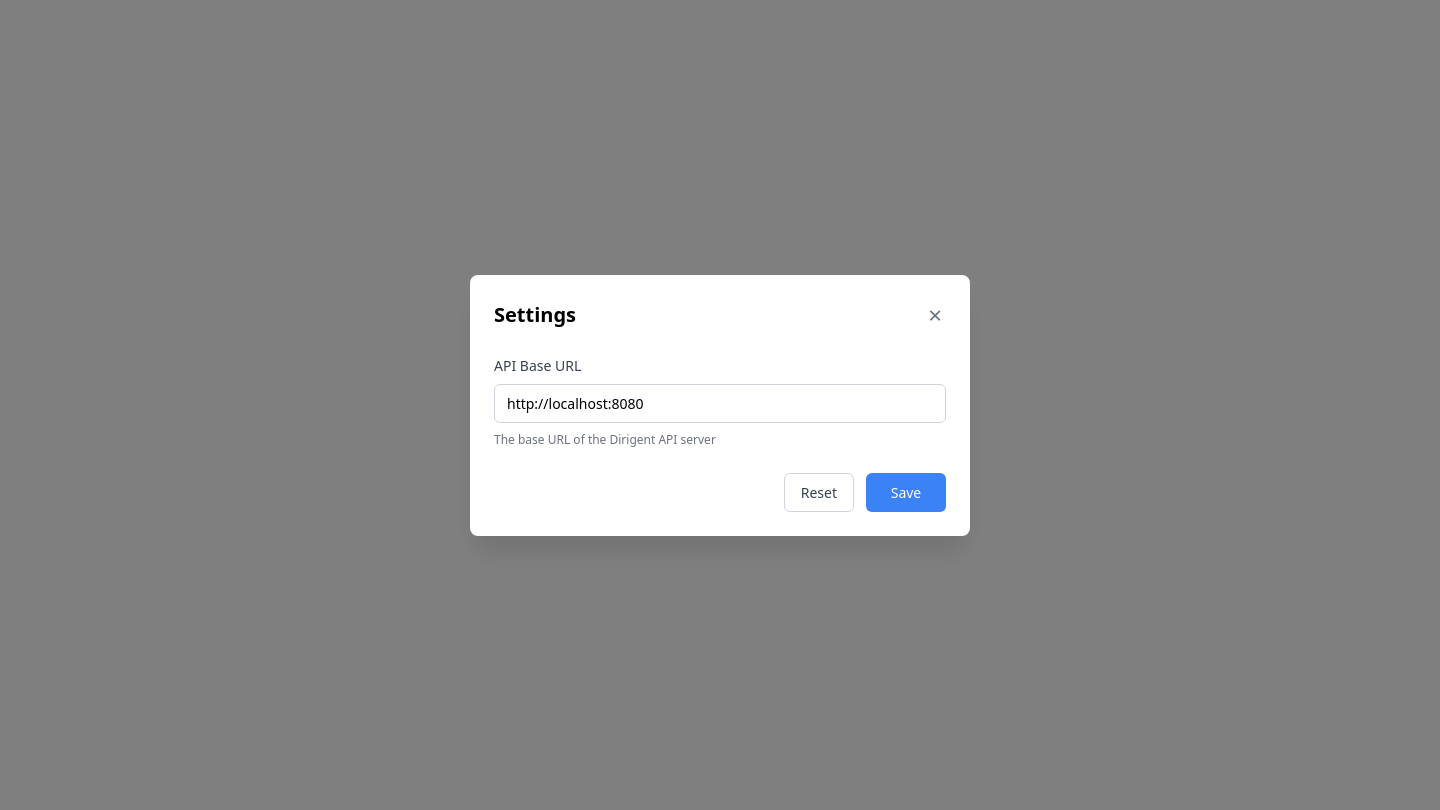
Test case: SettingsPanel › should show saved state after saving
The width and height of the screenshot is (1440, 810).
Click the button "Save".
click(906, 492)  # box [866,472,946,512]
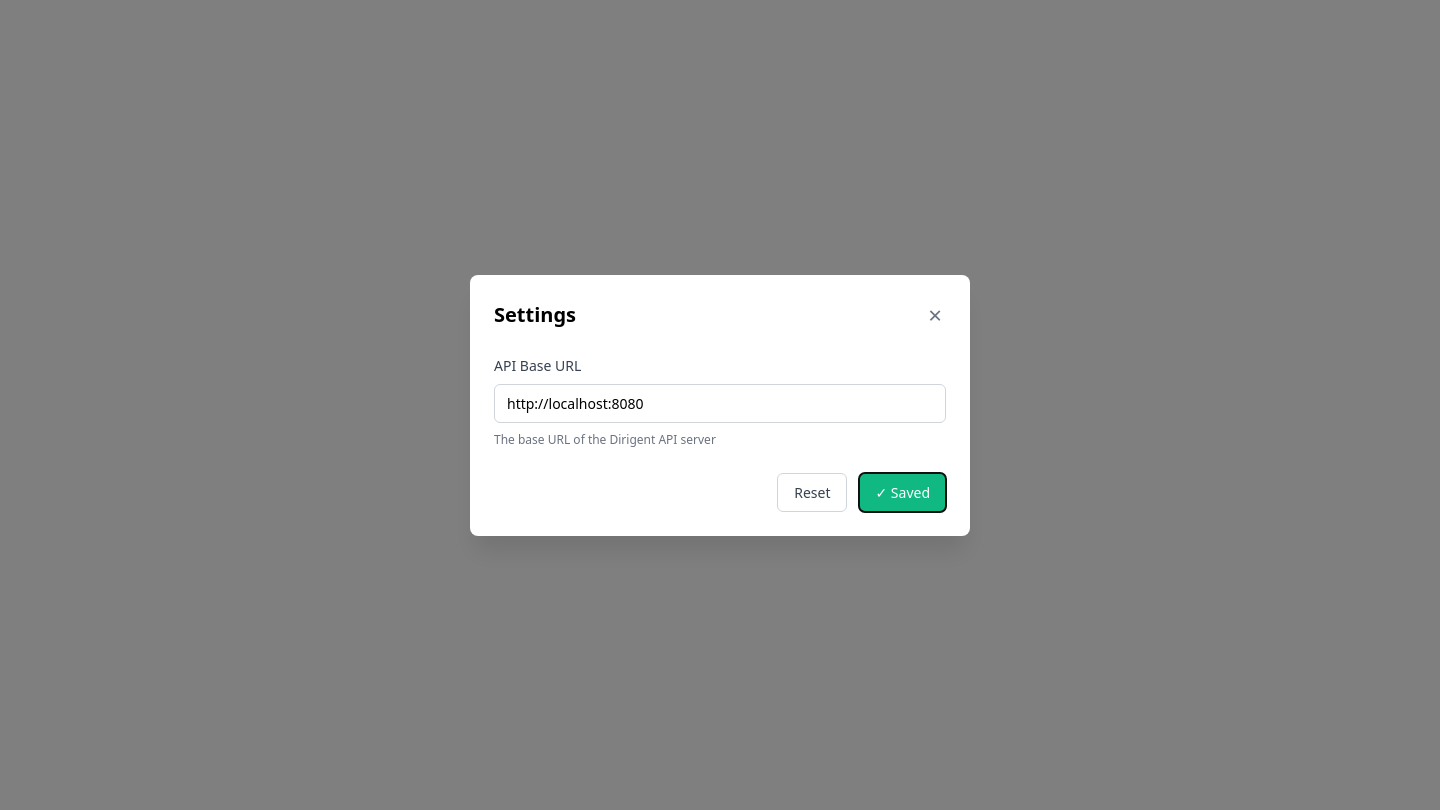
Check: the button "✓ Saved" is shown, box [860,472,946,512]
